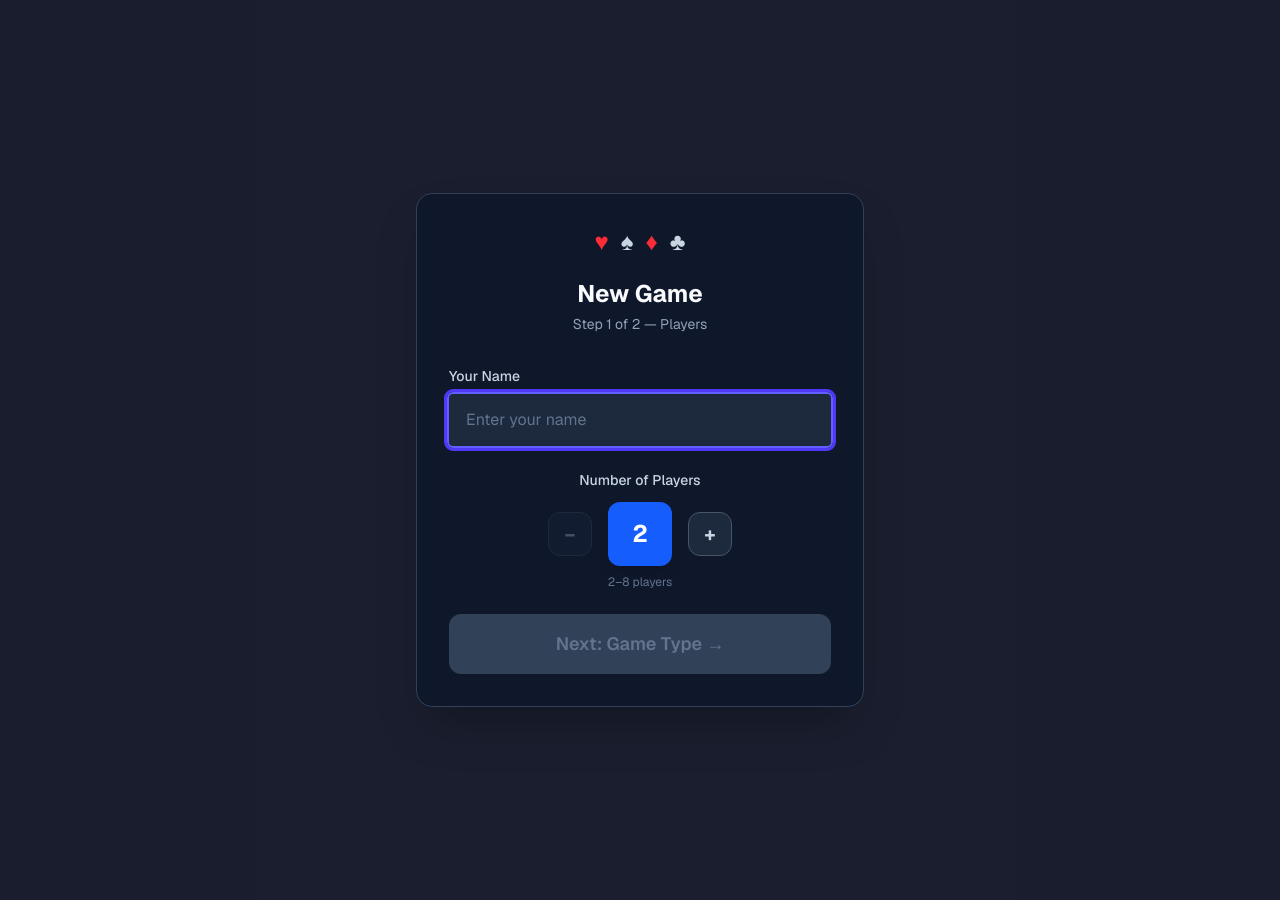
it: SetupPhase — step 1 (players) › decrease button decrements the count, down to 2
Click the button with test id "player-count-increase" at (710, 534), box [688,512,732,556]
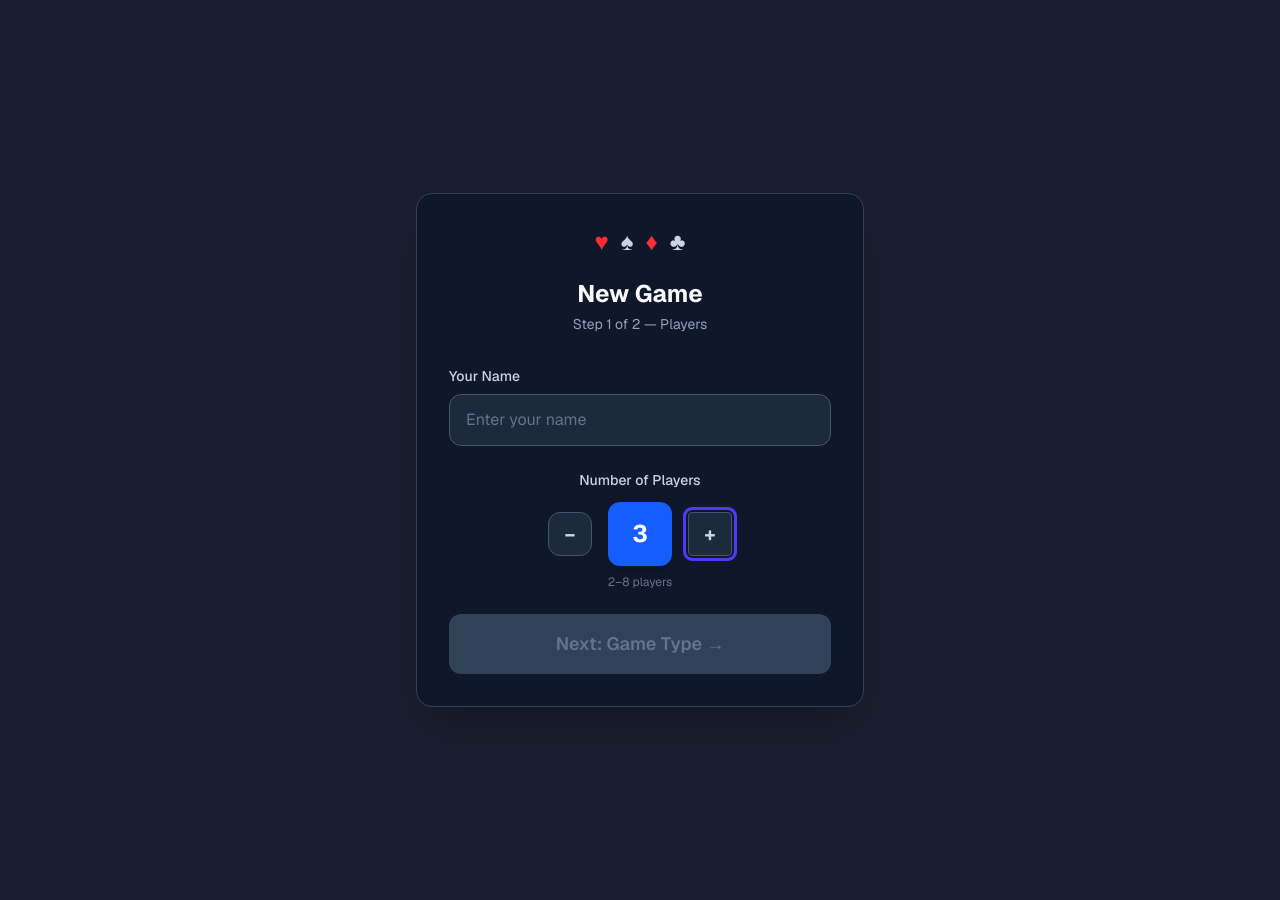
Click the button with test id "player-count-increase" at (710, 534), box [688,512,732,556]
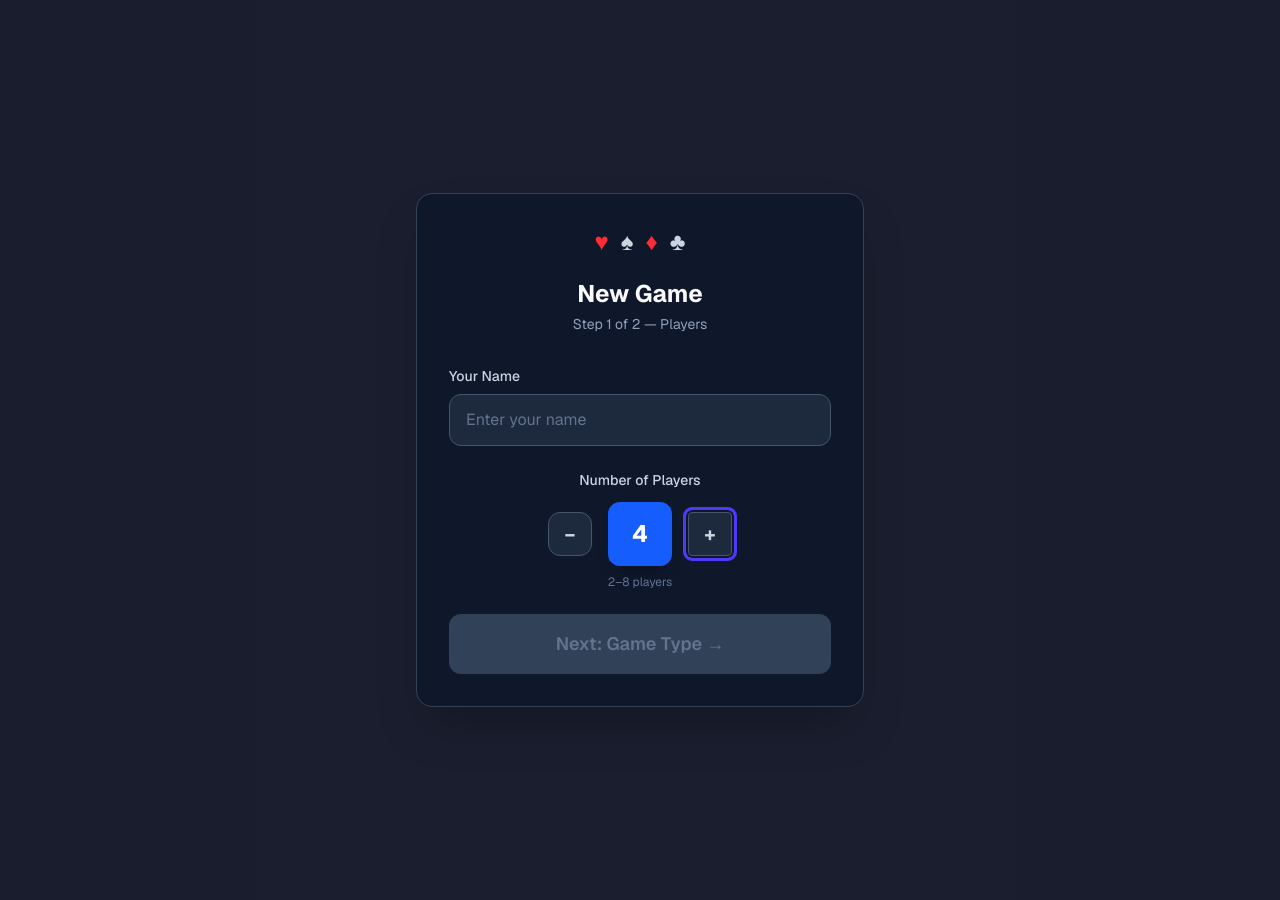
Expected: the text with test id "player-count-value" reads "4", [632,518,648,549]
Click the button with test id "player-count-decrease" at (570, 534), box [548,512,592,556]
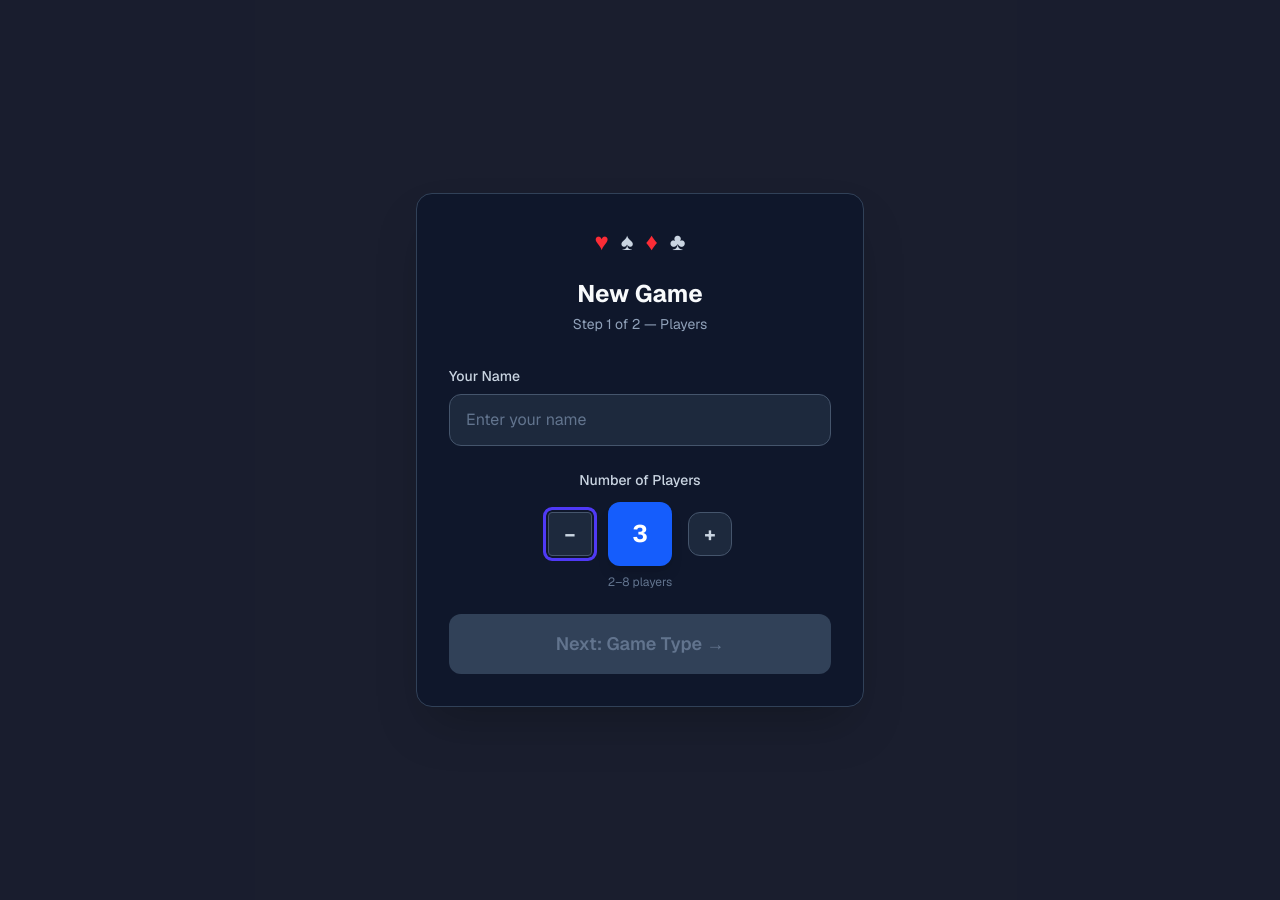
Expected: the text with test id "player-count-value" reads "3", [632,518,648,549]
